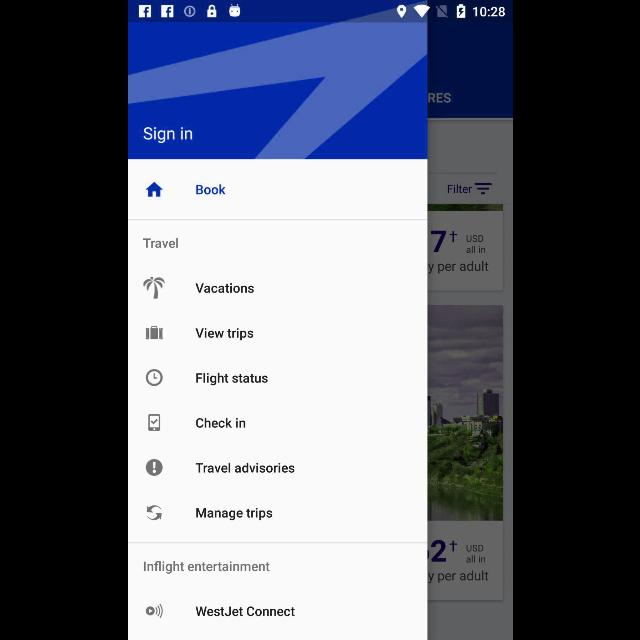icon: (144, 369, 162, 386), (144, 181, 162, 197), (146, 459, 162, 476), (145, 604, 163, 618), (144, 326, 162, 340), (146, 505, 160, 521)
image: (142, 277, 164, 299), (148, 414, 160, 432)
panel: (128, 22, 426, 640)
text: (143, 562, 269, 574), (194, 462, 294, 473), (195, 372, 267, 386), (194, 606, 294, 616), (194, 508, 272, 520), (142, 126, 192, 144), (194, 282, 253, 294), (194, 328, 252, 340), (195, 418, 245, 428), (142, 238, 178, 248), (196, 184, 224, 196)
uppertaskbar: (128, 1, 512, 23)
